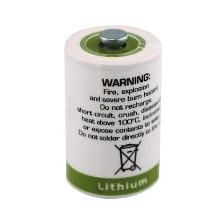battery: (61, 22, 166, 202)
